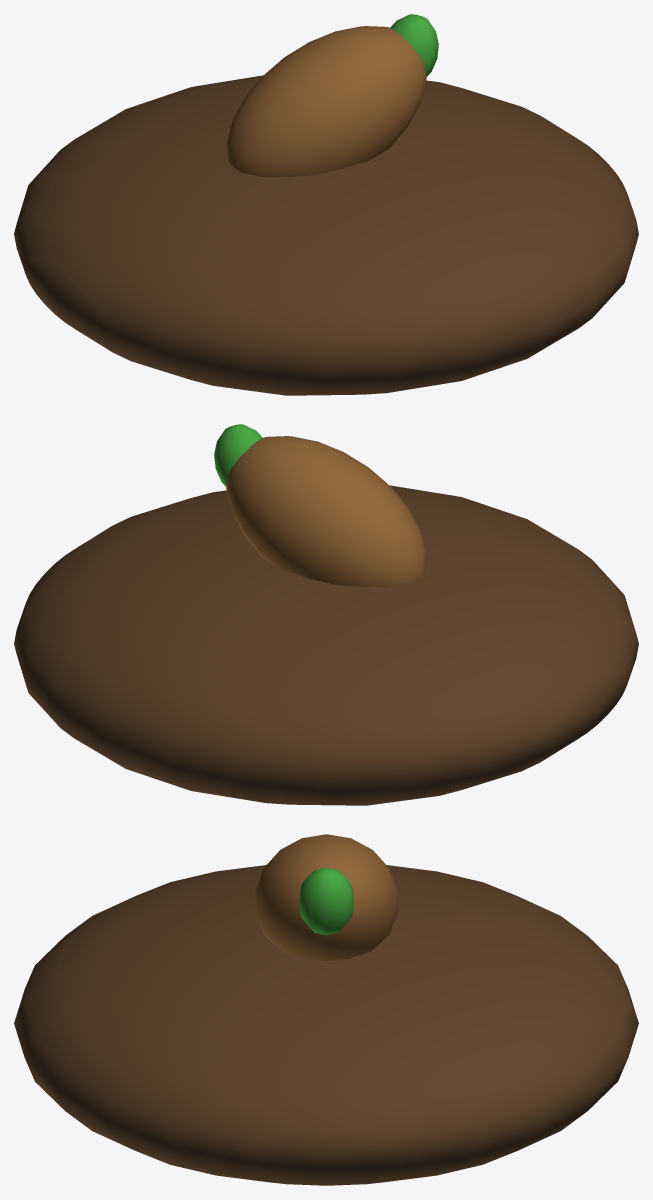
The model's file is seed.obj.
3 views of the same model, one above another, from view 1: azimuth 30°, elevation 25°; view 2: azimuth 150°, elevation 25°; view 3: azimuth 270°, elevation 25° (orthographic).
Visible parts, largest first — view 1: mound, seed, leaf; view 2: mound, seed, leaf; view 3: mound, seed, leaf.
Part boxes in pixels (x1,y1,x2,y2): mound: (14,75,638,395); seed: (226,26,426,177); leaf: (390,14,438,76); mound: (14,485,638,805); seed: (226,436,426,587); leaf: (214,424,262,486); mound: (14,865,638,1185); seed: (255,834,397,960); leaf: (299,867,353,935).
Bounding box in the file's own units: 0.13 × 0.067 × 0.13.
